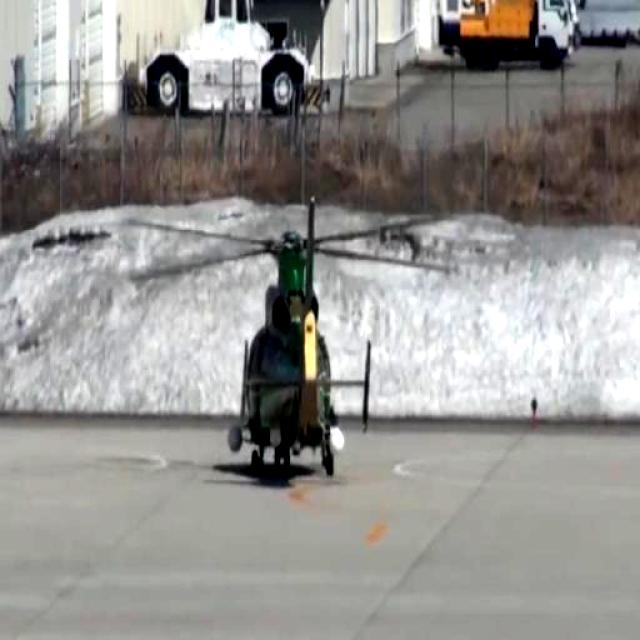drone: (205, 188, 382, 492)
